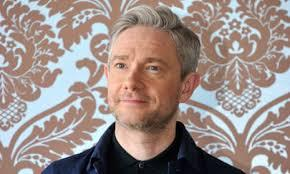person: (103, 4, 203, 138)
